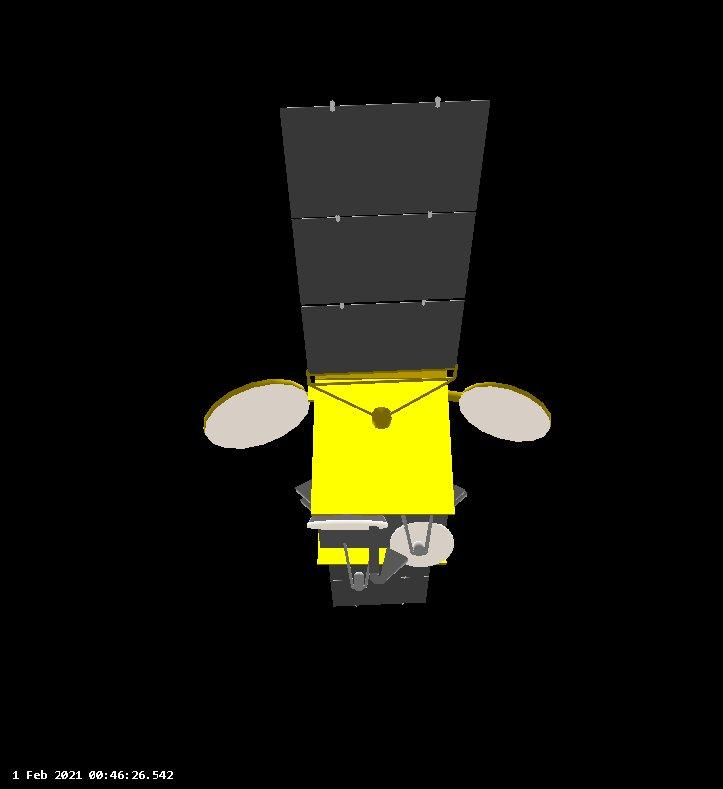antenna: (197, 373, 314, 453), (457, 376, 555, 449), (389, 518, 454, 572), (304, 511, 395, 539), (290, 475, 324, 510), (446, 475, 475, 514)
body: (305, 368, 460, 522)
solar: (277, 90, 496, 376), (311, 478, 445, 610)
